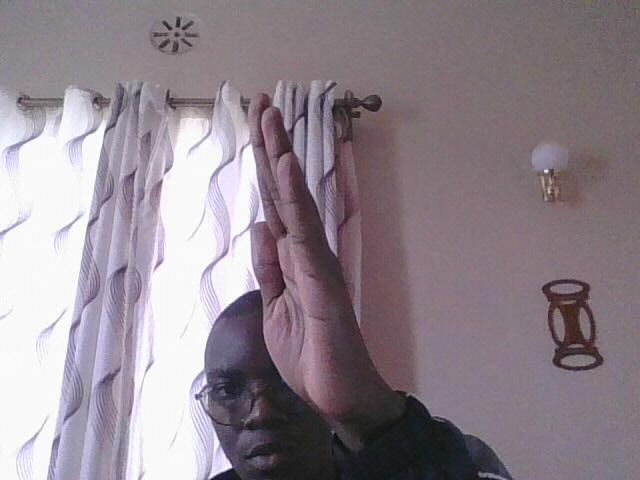paper: (223, 79, 405, 456), (234, 82, 385, 423)
